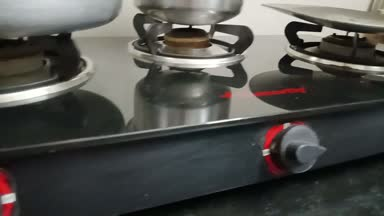flame_gas_off: (132, 14, 327, 177)
